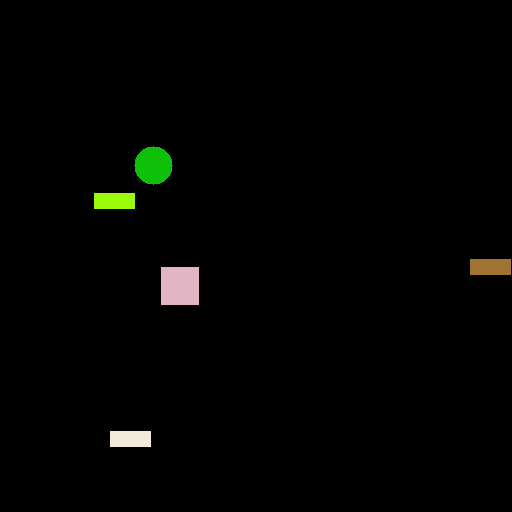circle: (132, 144, 181, 188)
side_rect: (89, 189, 140, 212), (461, 254, 512, 277), (105, 425, 156, 448)
square: (156, 265, 205, 308)
